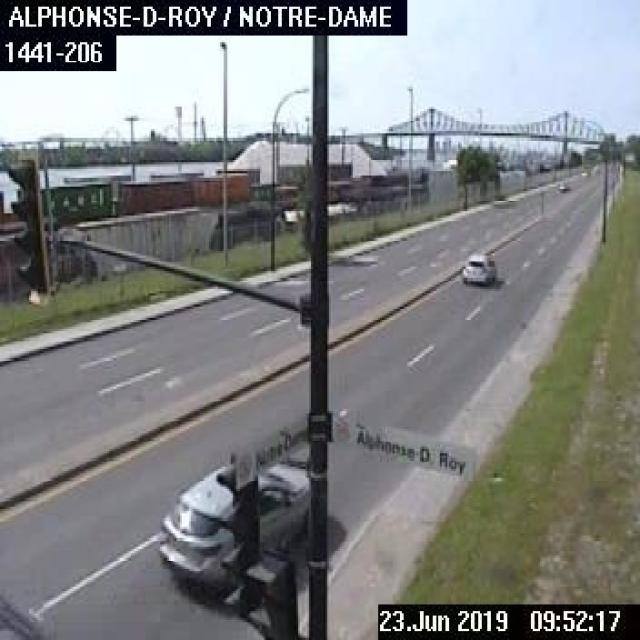vehicle: (153, 444, 323, 594), (460, 249, 495, 284), (555, 178, 567, 191)
